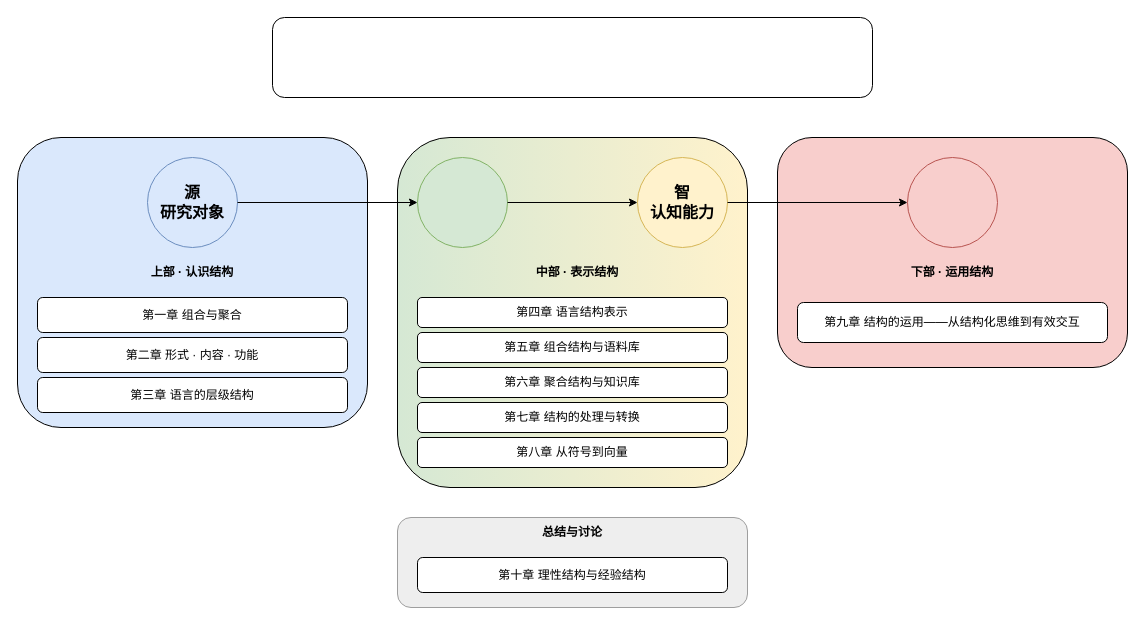
This 1145x625 diagram has some shape labels left out. Each missing label, with the centre of its shape:
"《语言结构计算》 两种语言，一个结构" belongs at (572,57).
"器 表示手段" belongs at (462,202).
"能 实践能力" belongs at (952,202).
